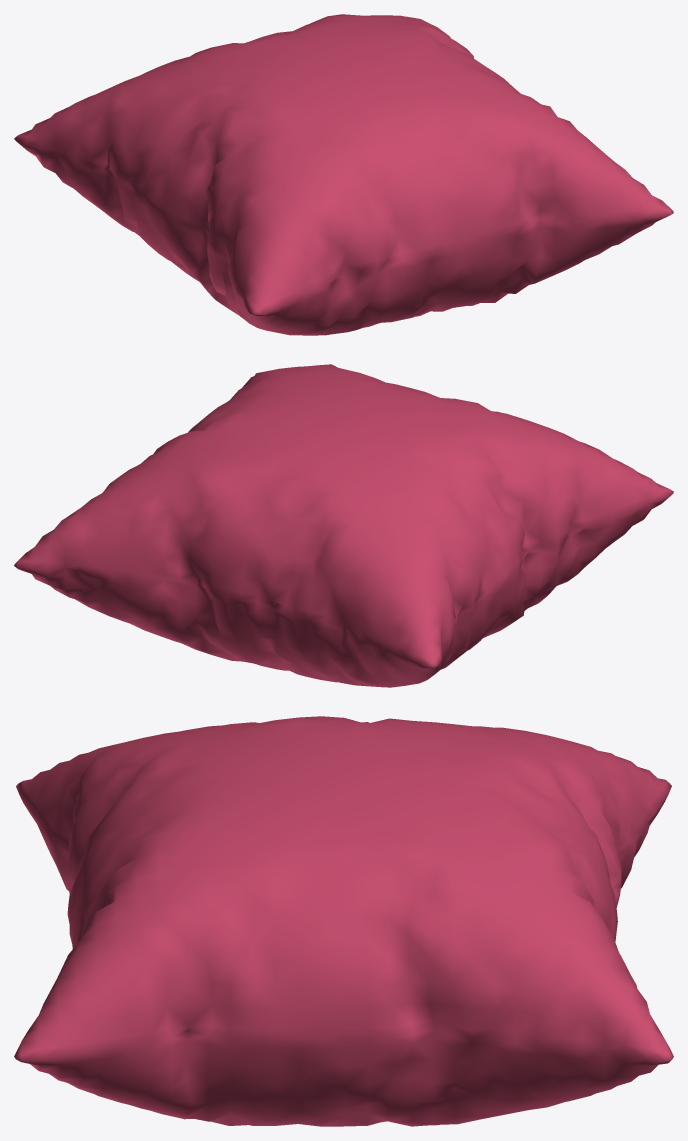
Rendered from cushionS.fbx.
3 views of the same model, one above another, from view 1: azimuth 30°, elevation 25°; view 2: azimuth 150°, elevation 25°; view 3: azimuth 270°, elevation 25° (orthographic). The views are drawn at different scales.
Visible parts, largest first — view 1: Cushion_S; view 2: Cushion_S; view 3: Cushion_S.
Boxes of the visible parts, x1,y1,x2,y2 form: Cushion_S: (14,14,673,335); Cushion_S: (14,364,673,687); Cushion_S: (14,716,673,1126).
Bounding box in the file's own units: 40 × 20 × 40.
